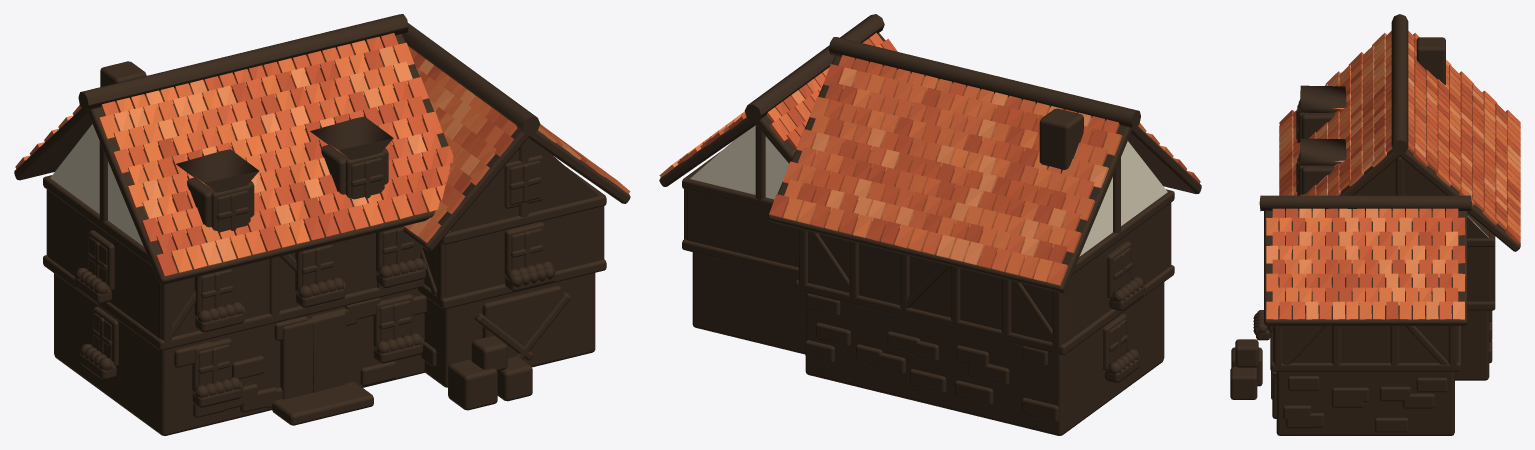
File: painted-house.glb
3 renders of one model, left to right at view 1: azimuth 30°, elevation 25°; view 2: azimuth 150°, elevation 25°; view 3: azimuth 270°, elevation 25°, orthographic. The views are drawn at different scales.
Parts seen in each view (by area): view 1: painted-house-outline, painted-house-kit (×2); view 2: painted-house-outline, painted-house-kit (×2); view 3: painted-house-outline, painted-house-kit.
Boxes of the visible parts, x1,y1,x2,y2 form: painted-house-outline: [14, 14, 630, 435]; painted-house-kit (×2): [15, 33, 630, 276]; painted-house-outline: [659, 14, 1201, 435]; painted-house-kit (×2): [659, 33, 1200, 285]; painted-house-outline: [1230, 14, 1520, 435]; painted-house-kit: [1266, 31, 1520, 319].
Bounding box in the file's own units: 5.68 × 3.64 × 3.81.
